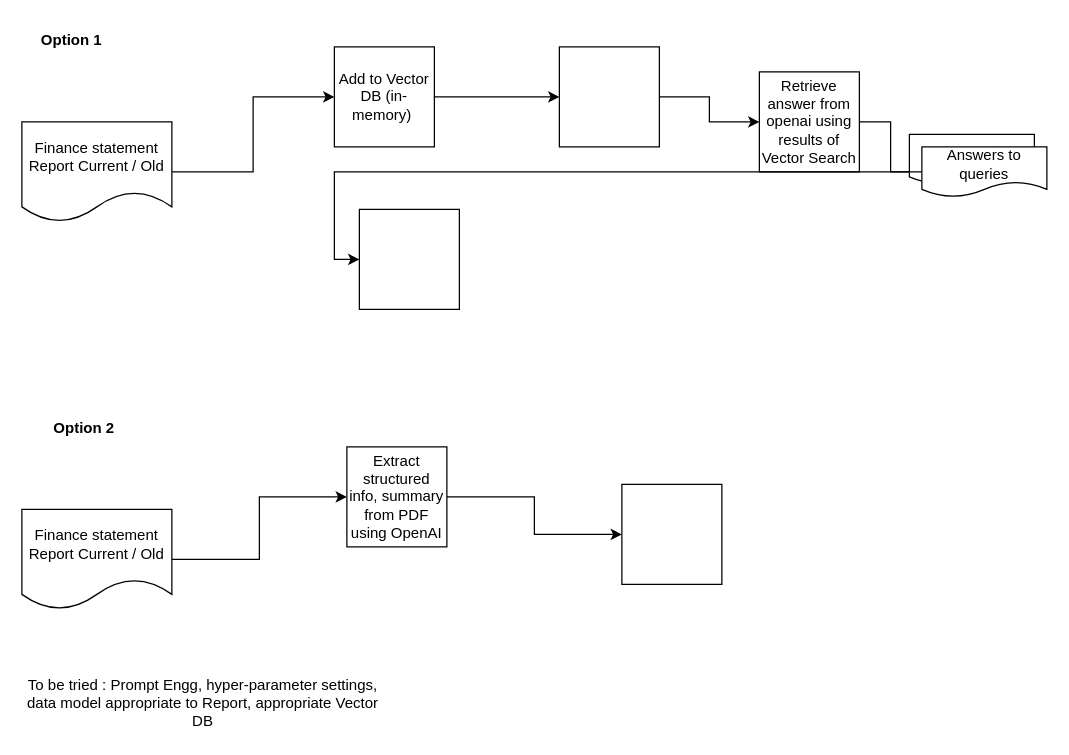
Image size: 1069x755. Some labels were removed from this diagram. The centre of each missing label's shape, as x and y in pixels:
Pass the info extracted from current and old to openai and get difference: the point at 671,533
query the PDF using domain knowledge: the point at 608,96
Send current doc answer and old doc answers to openai to get difference: the point at 408,258
